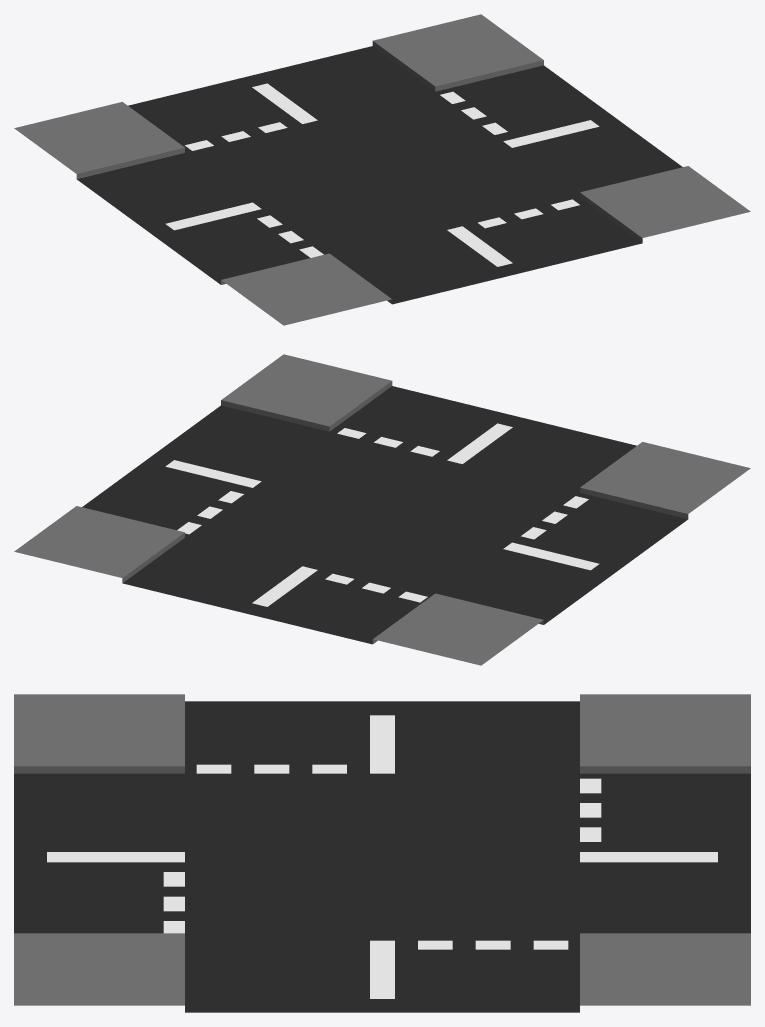
Rendered from crossroads.obj.
The picture shows the model from 3 angles, top to bottom: view 1: azimuth 30°, elevation 25°; view 2: azimuth 150°, elevation 25°; view 3: azimuth 270°, elevation 25°; orthographic projection. The views are drawn at different scales.
Visible parts, largest first — view 1: skrzyzowanie; view 2: skrzyzowanie; view 3: skrzyzowanie.
Part boxes in pixels (x1=…): skrzyzowanie: x1=14, y1=14, x2=750, y2=325; skrzyzowanie: x1=14, y1=354, x2=750, y2=665; skrzyzowanie: x1=14, y1=694, x2=750, y2=1012.
Bounding box in the file's own units: 14 × 0.15 × 14.
